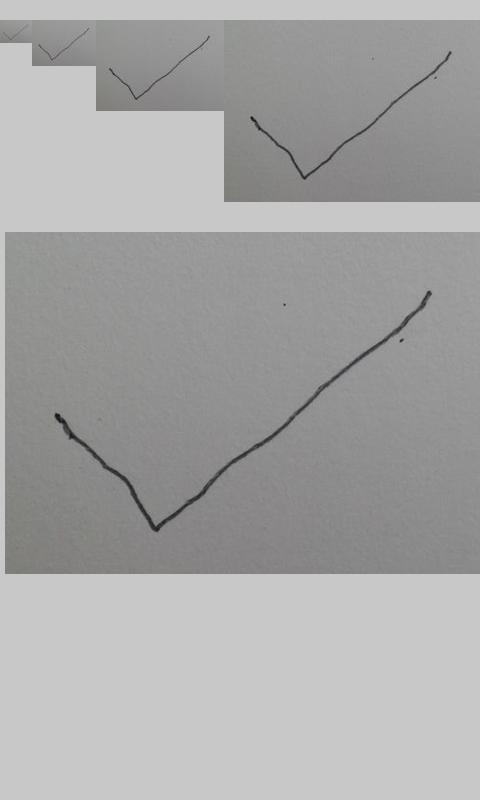check_box: (54, 291, 430, 534), (250, 51, 452, 181), (109, 36, 209, 101), (39, 28, 89, 61), (3, 26, 26, 41)
